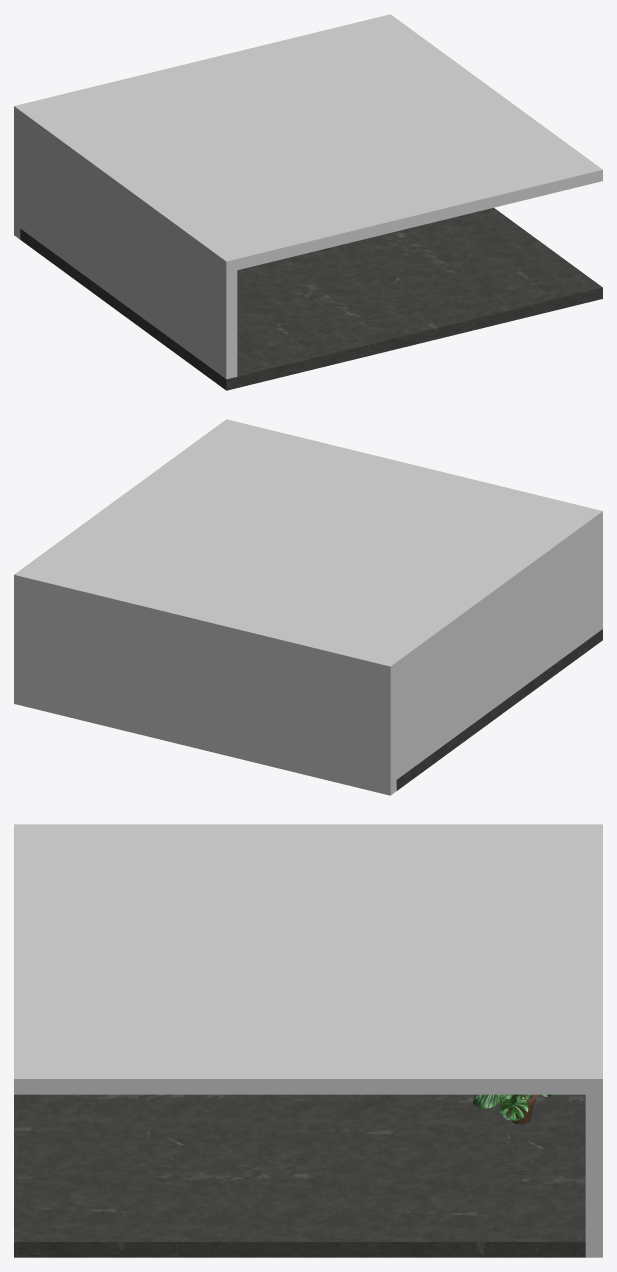
The model's file is nhaxe.fbx.
The picture shows the model from 3 angles, top to bottom: view 1: azimuth 30°, elevation 25°; view 2: azimuth 150°, elevation 25°; view 3: azimuth 270°, elevation 25°; orthographic projection. The views are drawn at different scales.
Visible parts, largest first — view 1: pCube5, pCube2, pCube4, pCube3; view 2: pCube5, pCube3, pCube4, pCube2; view 3: pCube5, pCube2, pCube3.
Boxes of the visible parts, x1,y1,x2,y2 form: pCube5: (14, 14, 602, 272); pCube2: (20, 207, 602, 390); pCube4: (20, 122, 237, 379); pCube3: (14, 117, 20, 239); pCube5: (14, 419, 602, 677); pCube3: (14, 586, 396, 795); pCube4: (396, 522, 602, 779); pCube2: (396, 629, 602, 790); pCube5: (14, 824, 602, 1094); pCube2: (14, 1094, 585, 1257); pCube3: (585, 1094, 602, 1257).
Size of the model in its own units: 13.69 by 4.49 by 13.38.
